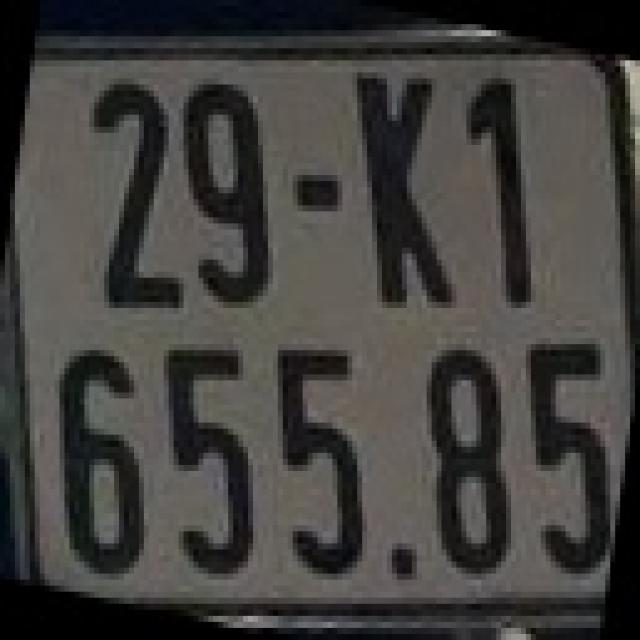1: (461, 72, 546, 308)
2: (84, 72, 188, 314)
5: (273, 338, 372, 580), (521, 332, 615, 580), (164, 338, 258, 580)
6: (54, 344, 149, 580)
8: (422, 338, 516, 580)
9: (183, 78, 278, 308)
K: (352, 60, 457, 314)
